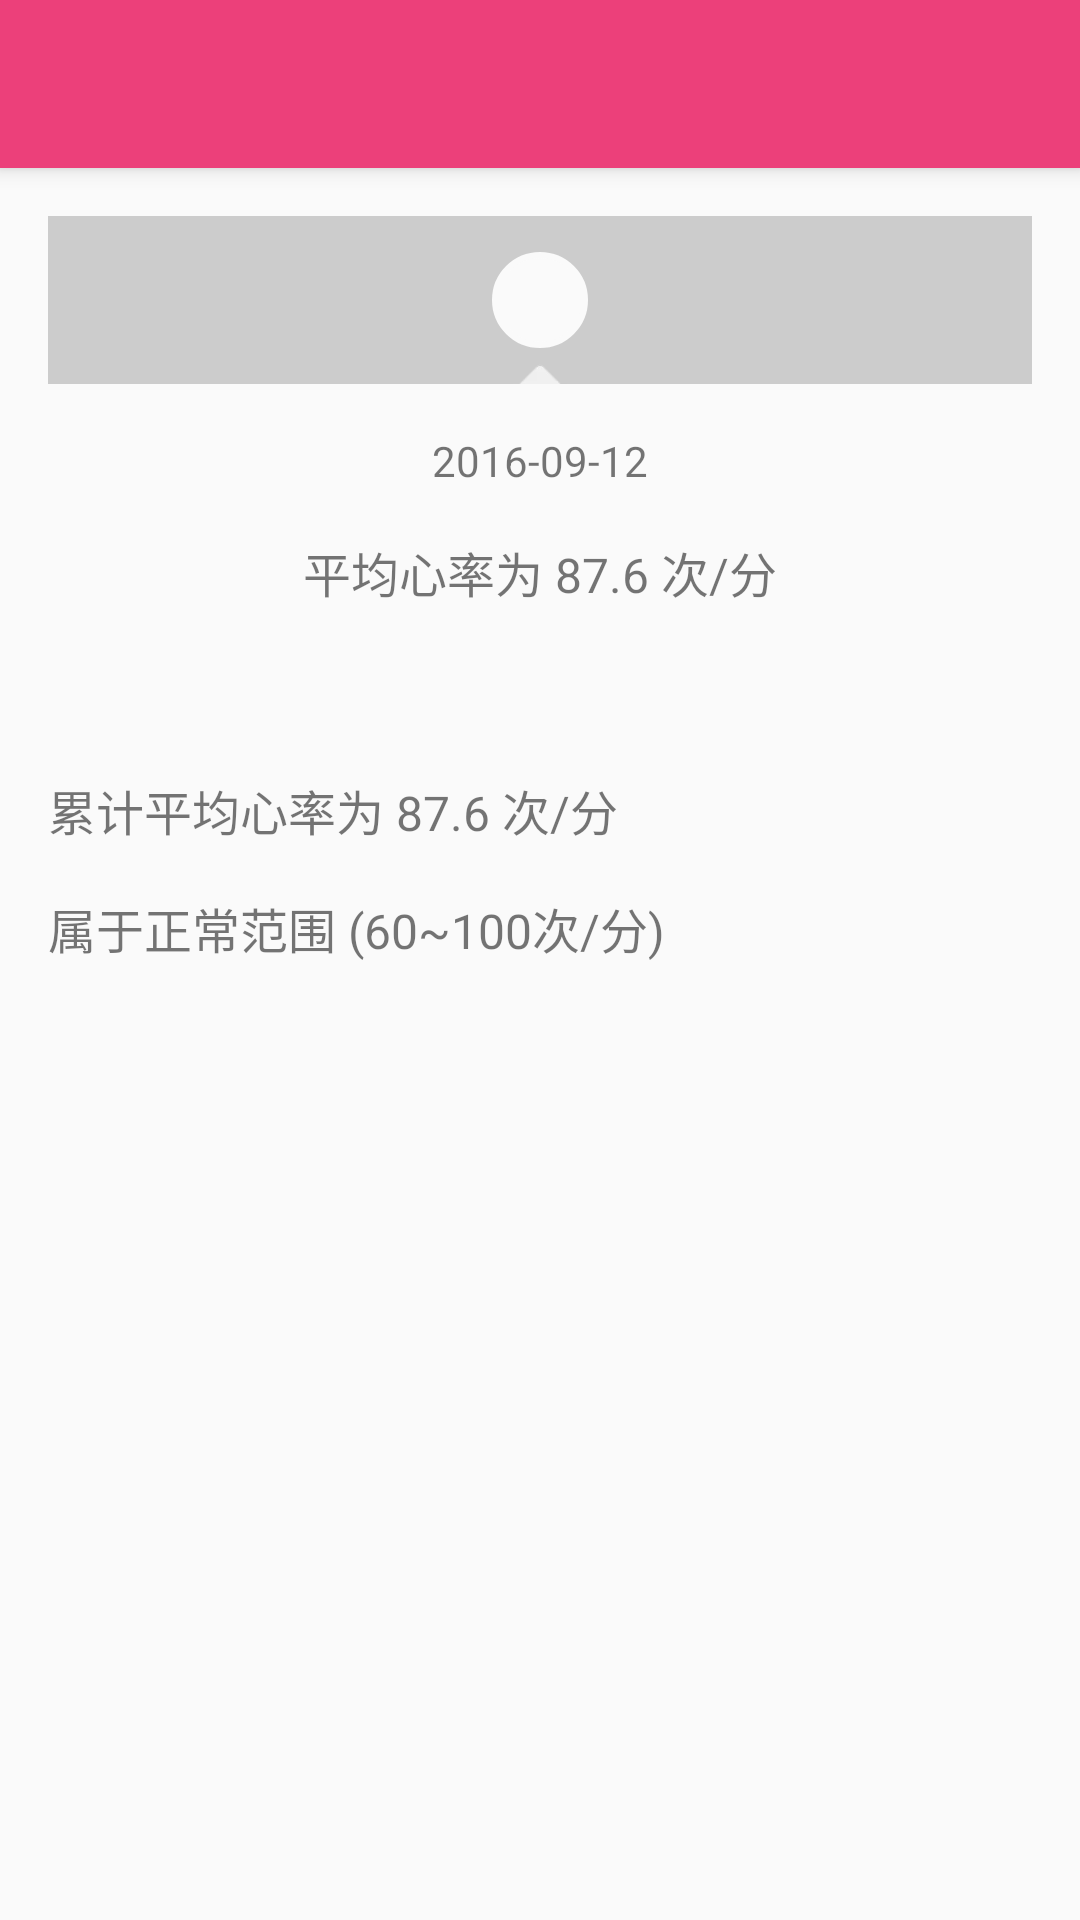

Where icons sit on this 1080px×1920px app screen, as (x1,y1,x2,y2):
chart handler info indicator: (521,366,559,384)
